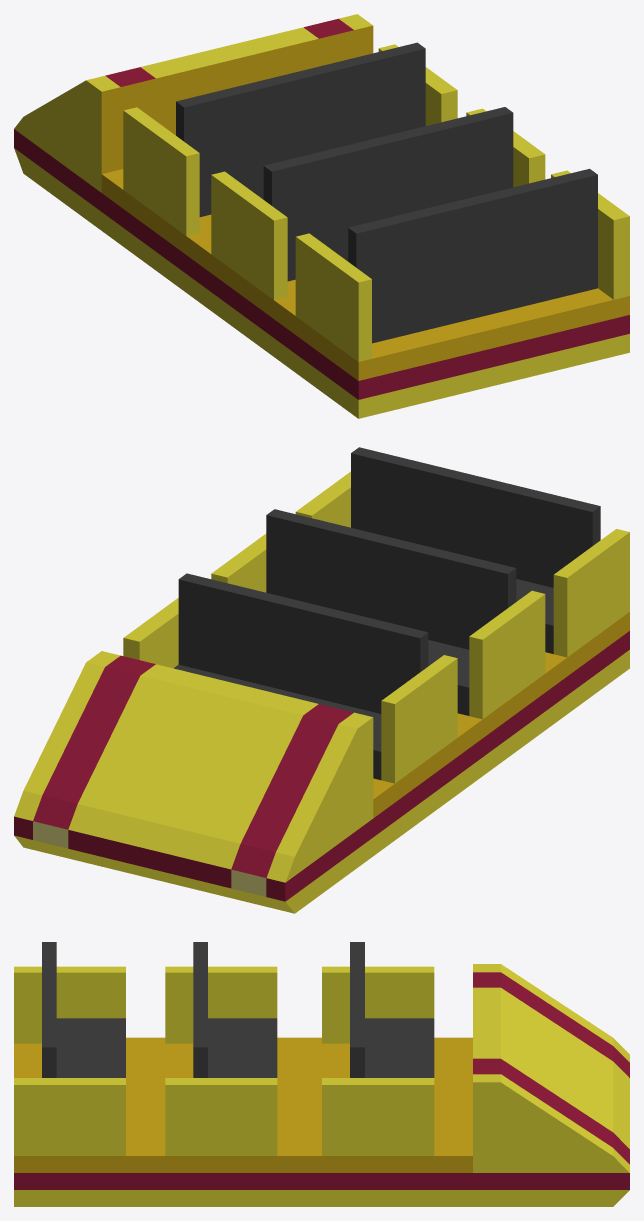
File: RollerCoasterCart01.fbx
3 views of the same model, one above another, from view 1: azimuth 30°, elevation 25°; view 2: azimuth 150°, elevation 25°; view 3: azimuth 270°, elevation 25° (orthographic). The views are drawn at different scales.
Visible parts, largest first — view 1: RollerCoasterCart01; view 2: RollerCoasterCart01; view 3: RollerCoasterCart01.
Part boxes in pixels (x1=…): RollerCoasterCart01: x1=14, y1=14, x2=629, y2=418; RollerCoasterCart01: x1=14, y1=447, x2=629, y2=913; RollerCoasterCart01: x1=14, y1=942, x2=629, y2=1206.
Bounding box in the file's own units: 100 × 60 × 220.
